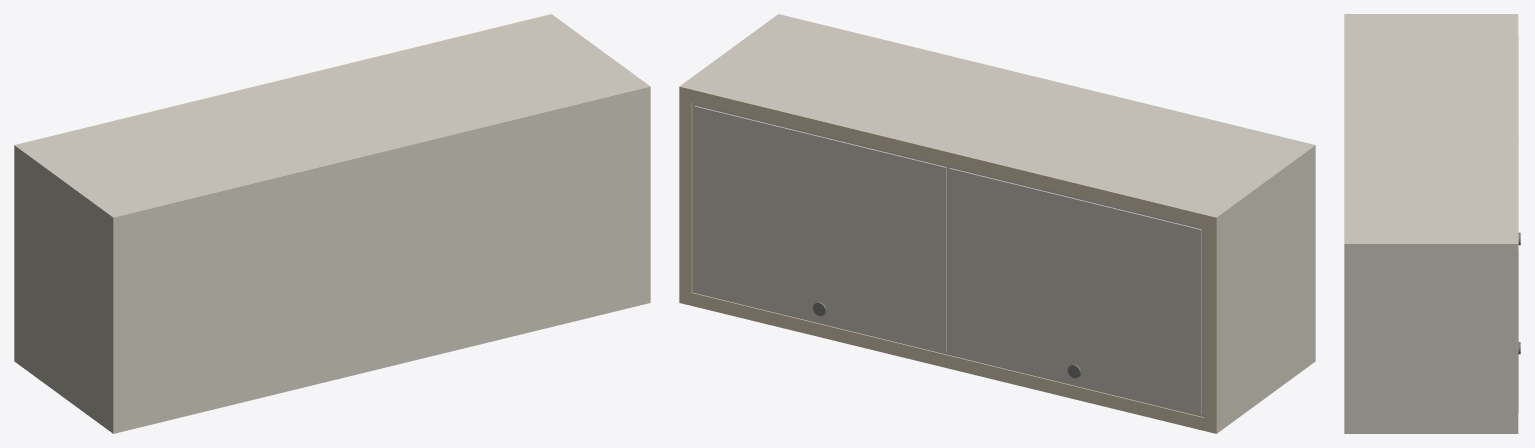
The model's file is v2-real-overhead-0.glb.
The picture shows the model from 3 angles, left to right: view 1: azimuth 30°, elevation 25°; view 2: azimuth 150°, elevation 25°; view 3: azimuth 270°, elevation 25°; orthographic projection. The views are drawn at different scales.
Bounding box in the file's own units: 780 × 300 × 253.
